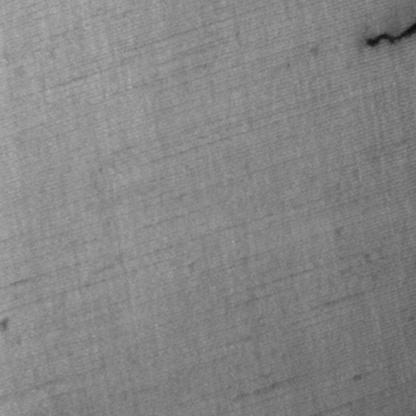objects: (362, 17, 415, 52)
